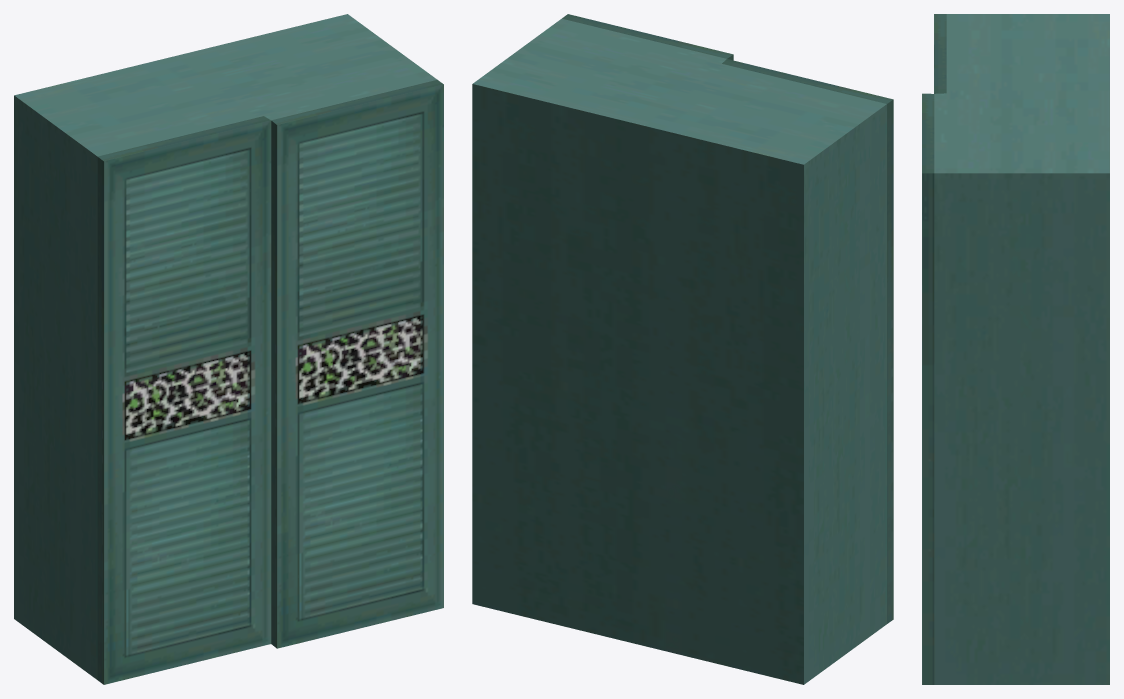
File: furni_0200078_03.FBX
3 views of the same model, side by side, from view 1: azimuth 30°, elevation 25°; view 2: azimuth 150°, elevation 25°; view 3: azimuth 270°, elevation 25° (orthographic). The views are drawn at different scales.
Parts seen in each view (by area): view 1: furni_0200078_03; view 2: furni_0200078_03; view 3: furni_0200078_03.
Part boxes in pixels (<box>): furni_0200078_03: <box>14,14,443,684</box>; furni_0200078_03: <box>472,14,893,684</box>; furni_0200078_03: <box>922,14,1109,684</box>.
Size of the model in its own units: 160 by 240 by 79.9.
Materials: 1 (1 with a texture image).
